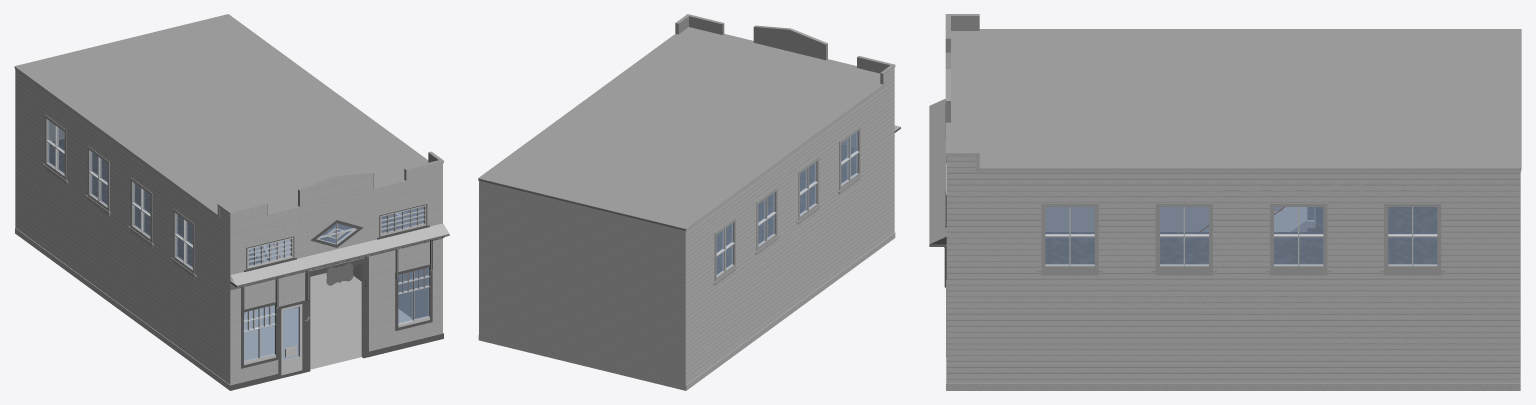
Rendered from dowds-moving-1920.glb.
3 views of the same model, side by side, from view 1: azimuth 30°, elevation 25°; view 2: azimuth 150°, elevation 25°; view 3: azimuth 270°, elevation 25° (orthographic). The views are drawn at different scales.
Bounding box in the file's own units: 12.29 × 10.36 × 22.02.
Materials: 26 (5 with a texture image).
